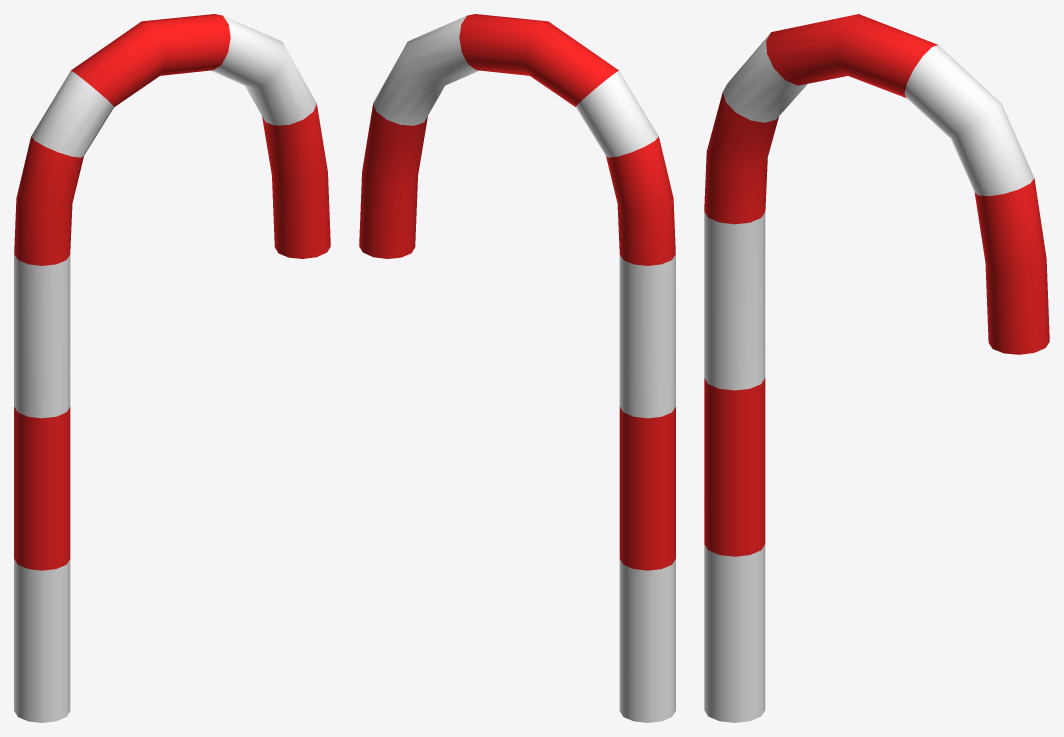
Rendered from Candy Cane 1.FBX.
3 views of the same model, side by side, from view 1: azimuth 30°, elevation 25°; view 2: azimuth 150°, elevation 25°; view 3: azimuth 330°, elevation 25° (orthographic). The views are drawn at different scales.
Visible parts, largest first — view 1: Candy Cane; view 2: Candy Cane; view 3: Candy Cane.
Boxes of the visible parts, box(x1,y1,x2,y2) form: Candy Cane: box(14, 14, 330, 722); Candy Cane: box(359, 14, 675, 722); Candy Cane: box(704, 14, 1049, 722).
Size of the model in its own units: 36.11 by 73.91 by 5.67.
